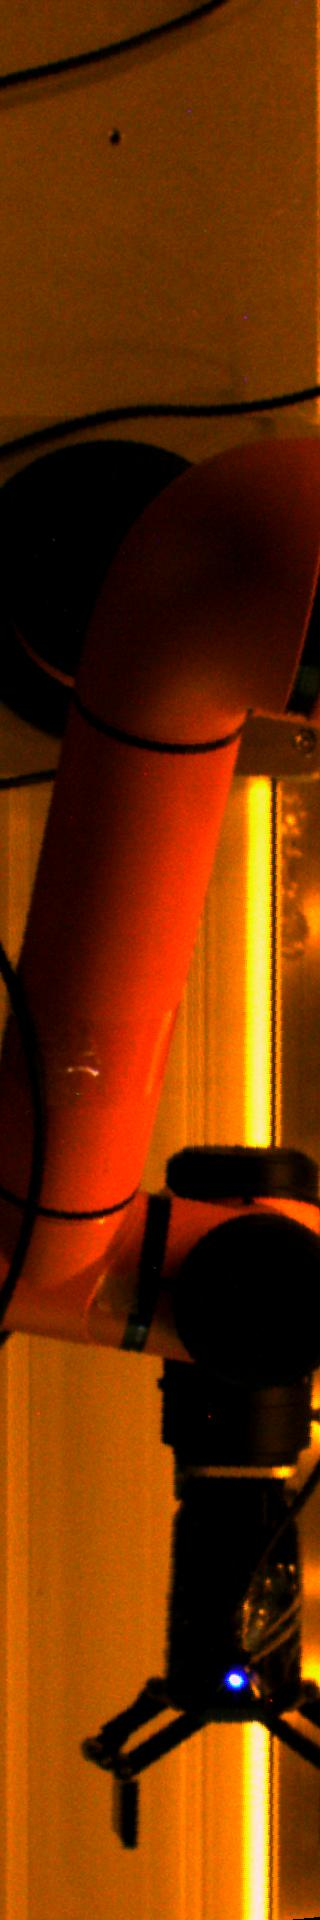keyPoint_1: (219, 1663, 250, 1693)
keyPoint_2: (99, 122, 129, 153)
